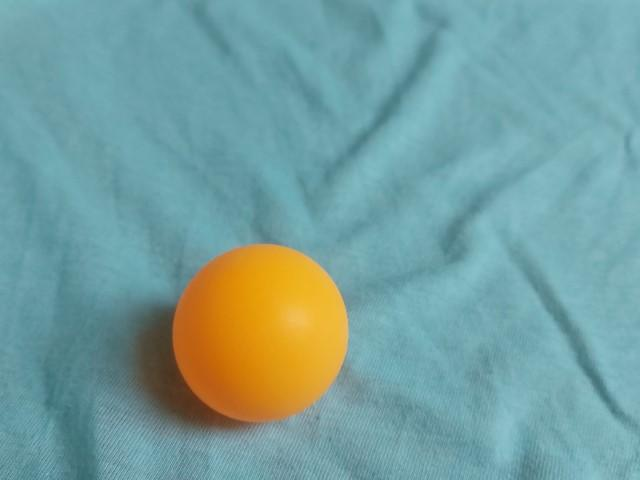oball: (162, 233, 363, 433)
